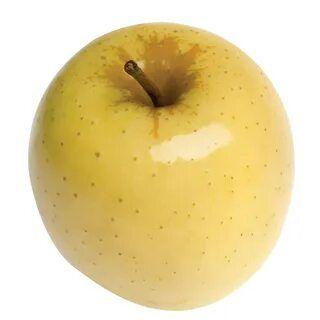Apple: (29, 23, 294, 309)
